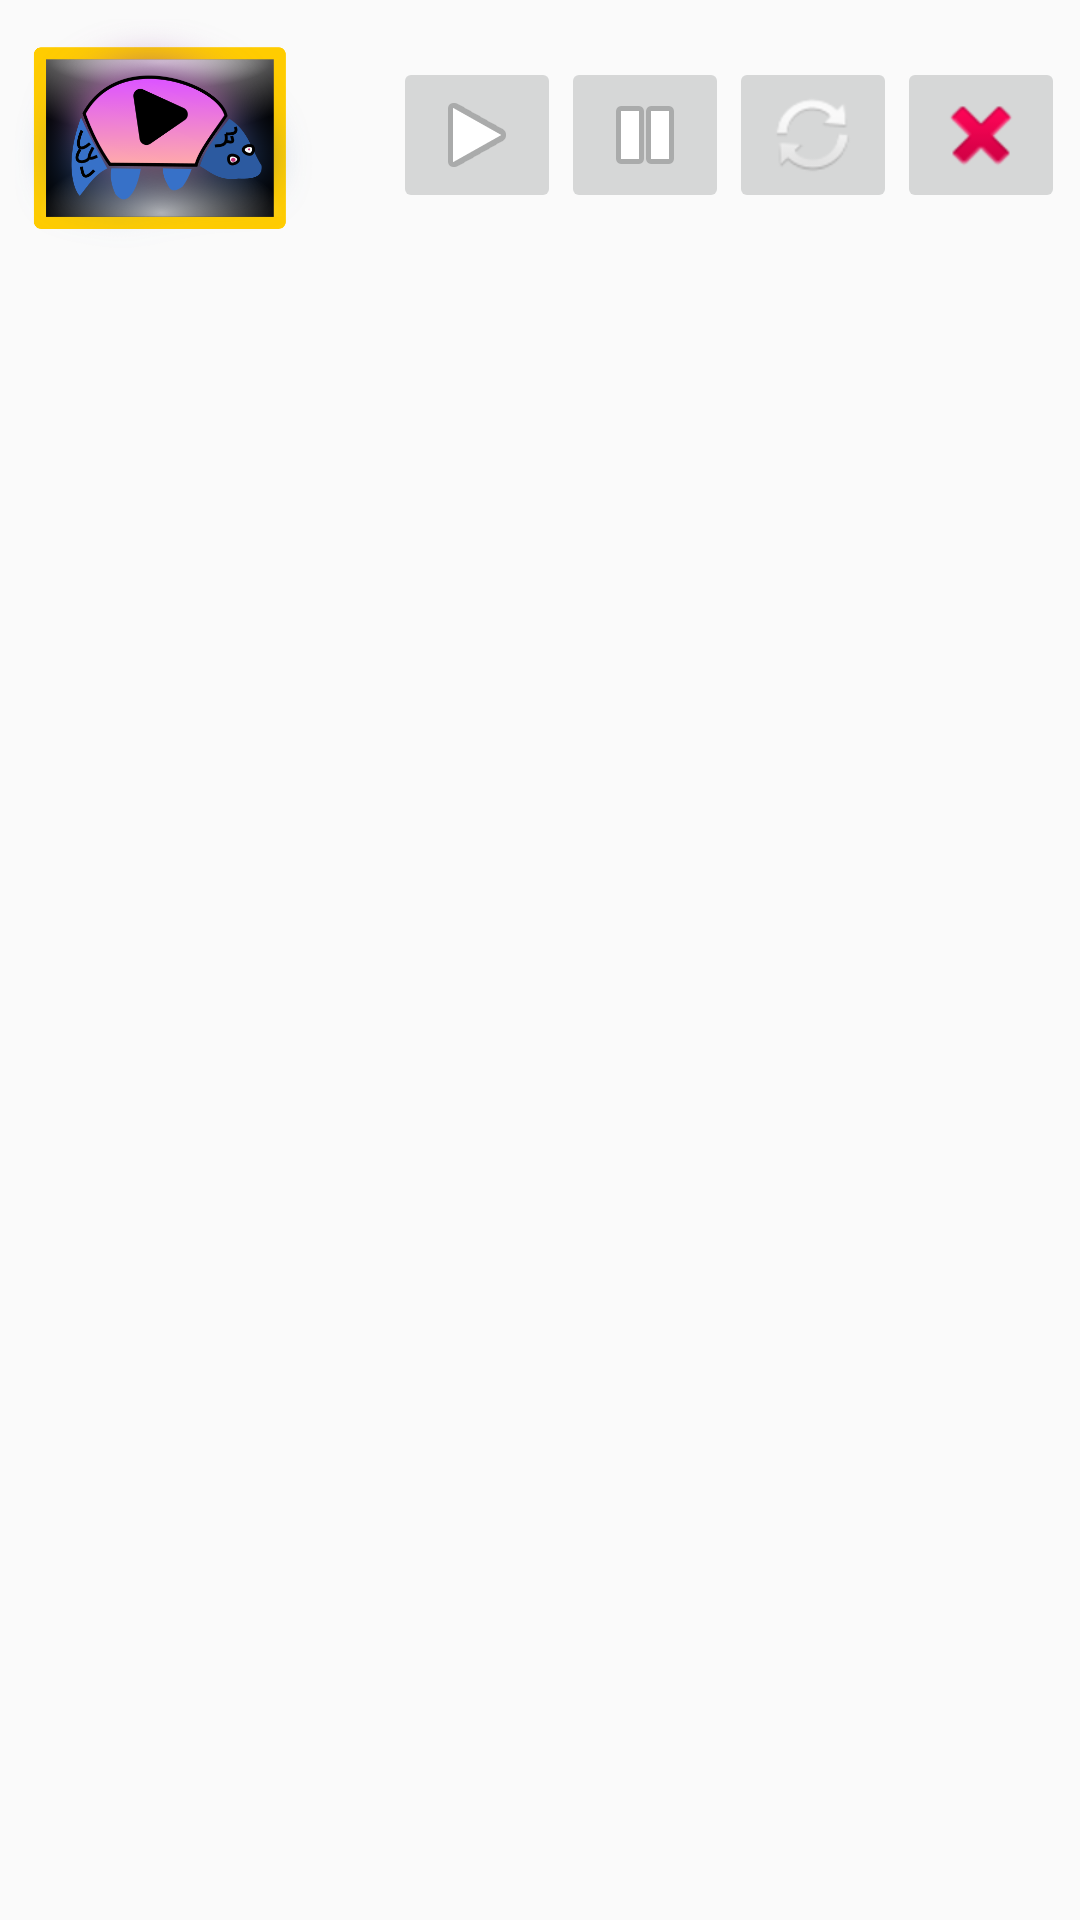

Named icons in this screenshot (1080w x 1920h) and their centers, point (x, y):
delete: point (981, 135)
pause: point (645, 135)
play: point (477, 135)
popup sync: point (813, 135)
yashlang thumb: point (160, 138)
